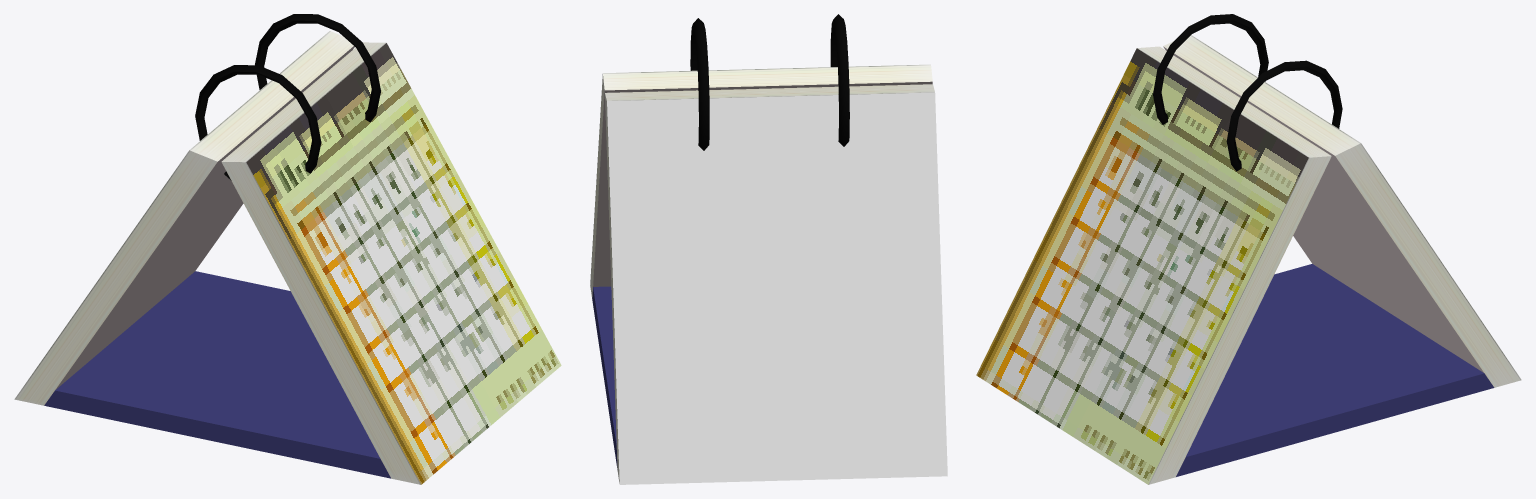
The picture shows the model from 3 angles, left to right: view 1: azimuth 30°, elevation 25°; view 2: azimuth 150°, elevation 25°; view 3: azimuth 270°, elevation 25°; orthographic projection. The views are drawn at different scales.
Visible parts, largest first — view 1: Joint_0_Object_1, Joint_0_Object_2, Joint_0_Object_0, Joint_0_Object_3; view 2: Joint_0_Object_2, Joint_0_Object_0, Joint_0_Object_3; view 3: Joint_0_Object_1, Joint_0_Object_2, Joint_0_Object_0, Joint_0_Object_3.
Part boxes in pixels (x1,y1,x2,y2): Joint_0_Object_1: [246, 43, 561, 484]; Joint_0_Object_2: [44, 46, 390, 478]; Joint_0_Object_0: [14, 31, 420, 484]; Joint_0_Object_3: [195, 14, 380, 180]; Joint_0_Object_2: [592, 81, 947, 484]; Joint_0_Object_0: [590, 64, 934, 483]; Joint_0_Object_3: [690, 14, 849, 150]; Joint_0_Object_1: [976, 48, 1308, 484]; Joint_0_Object_2: [1163, 46, 1494, 476]; Joint_0_Object_0: [1137, 35, 1521, 484]; Joint_0_Object_3: [1153, 14, 1342, 171].
Size of the model in its own units: 427 by 314 by 459.
4 materials, 2 textured.
